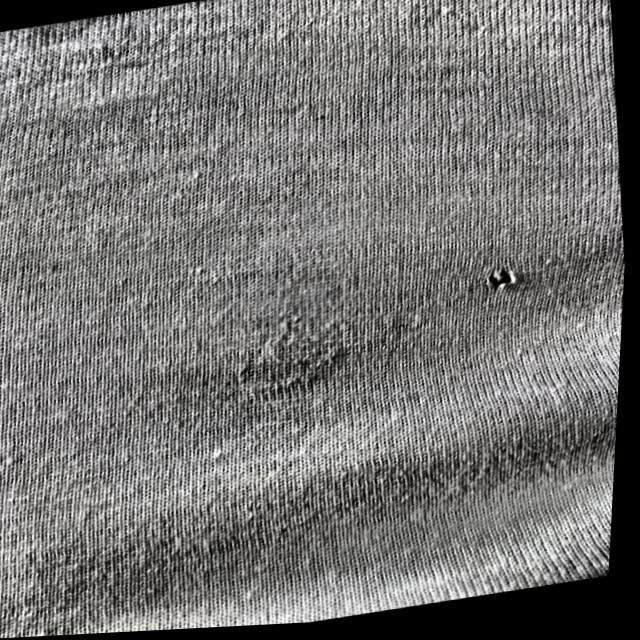Hole: (475, 259, 531, 310)
